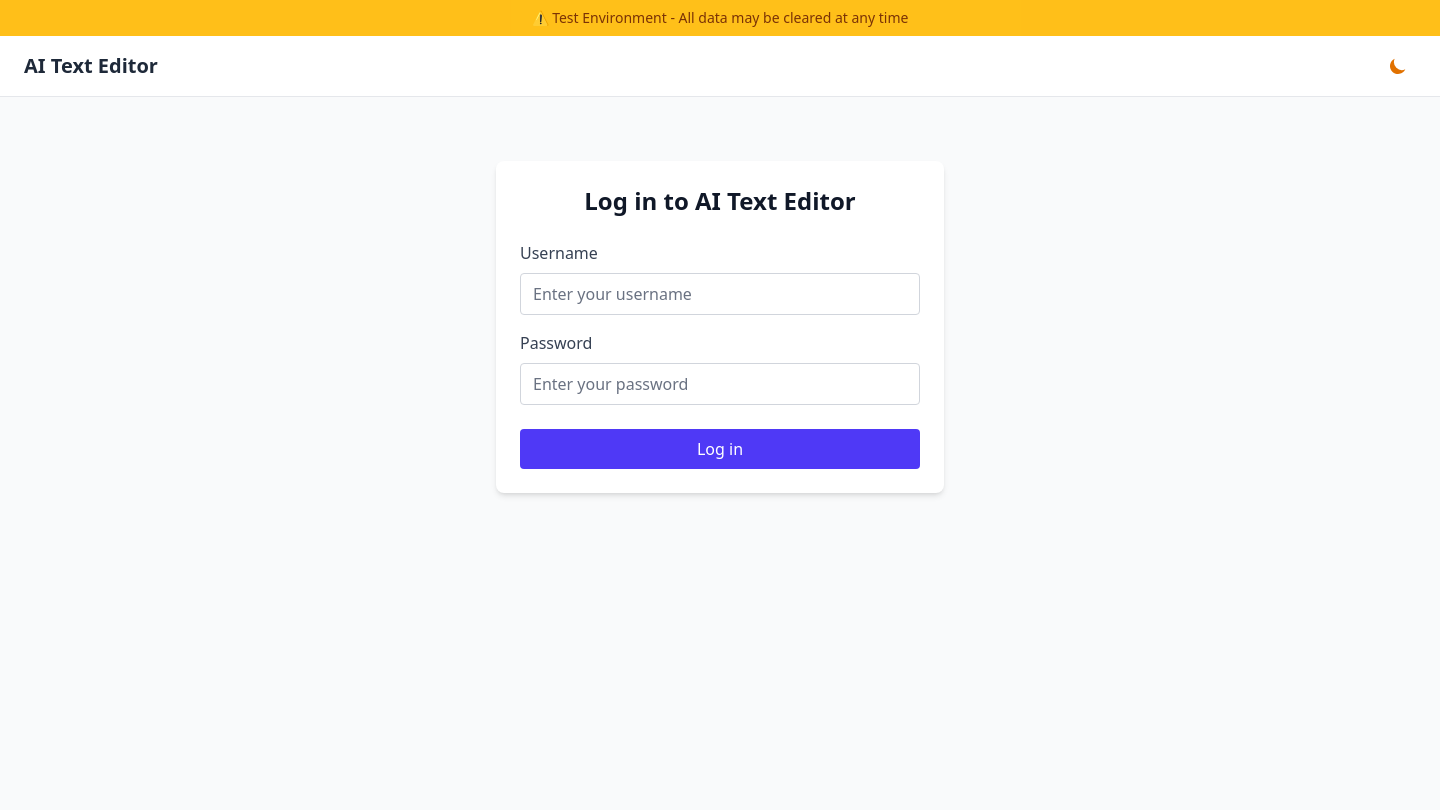
Test: LoginPage › shows error message when form is submitted without values
Submit the form without entering values
Click the button "Log in" at (720, 449), box 520,429 -> 920,469
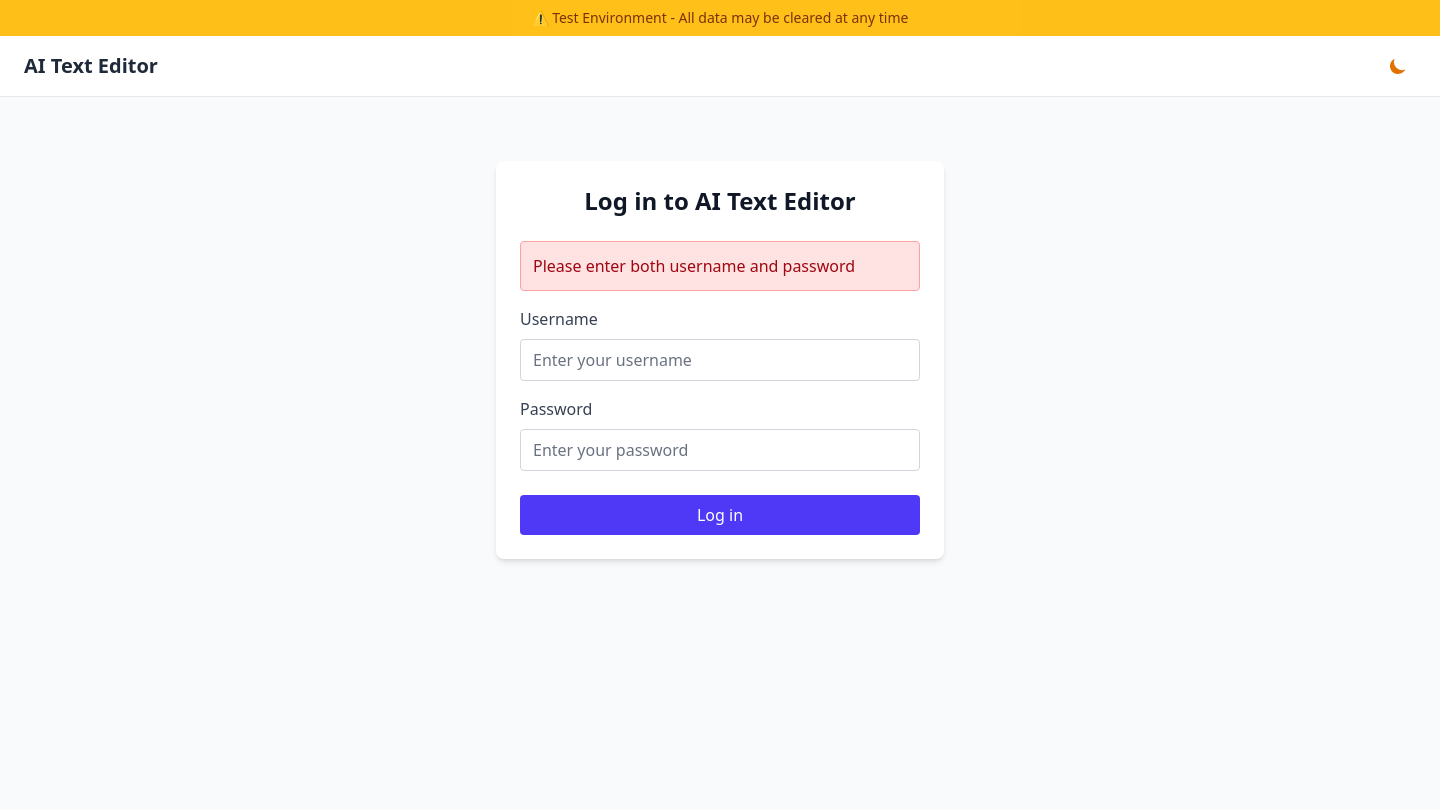
Result: the text "Please enter both username and password" is shown at 520,241 -> 920,291
